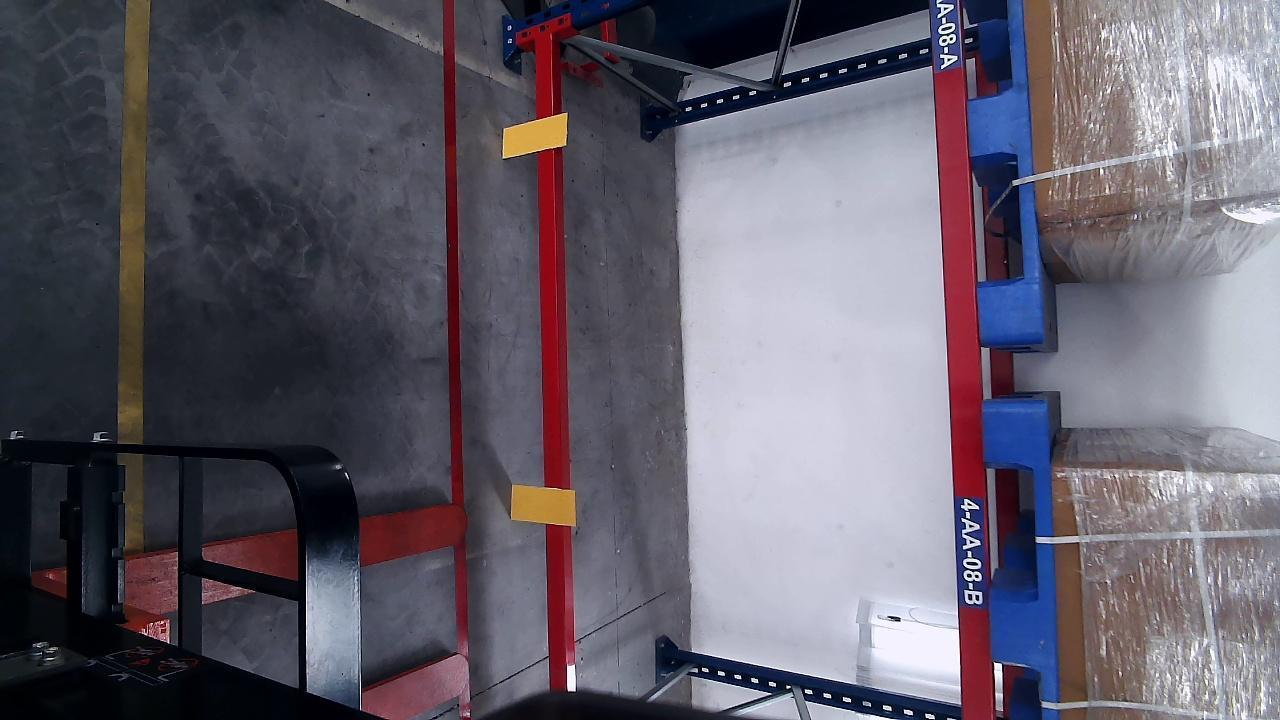red_line: (441, 1, 477, 720)
yellow_line: (115, 1, 151, 441)
